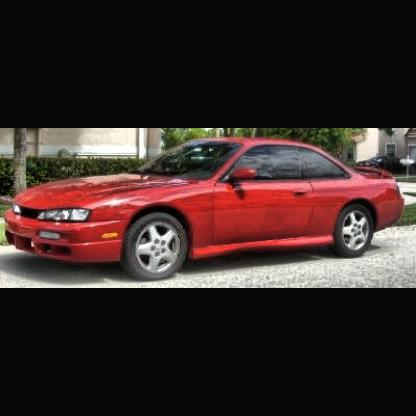Nissan 240SX Coupe 1998: (5, 138, 406, 284)
